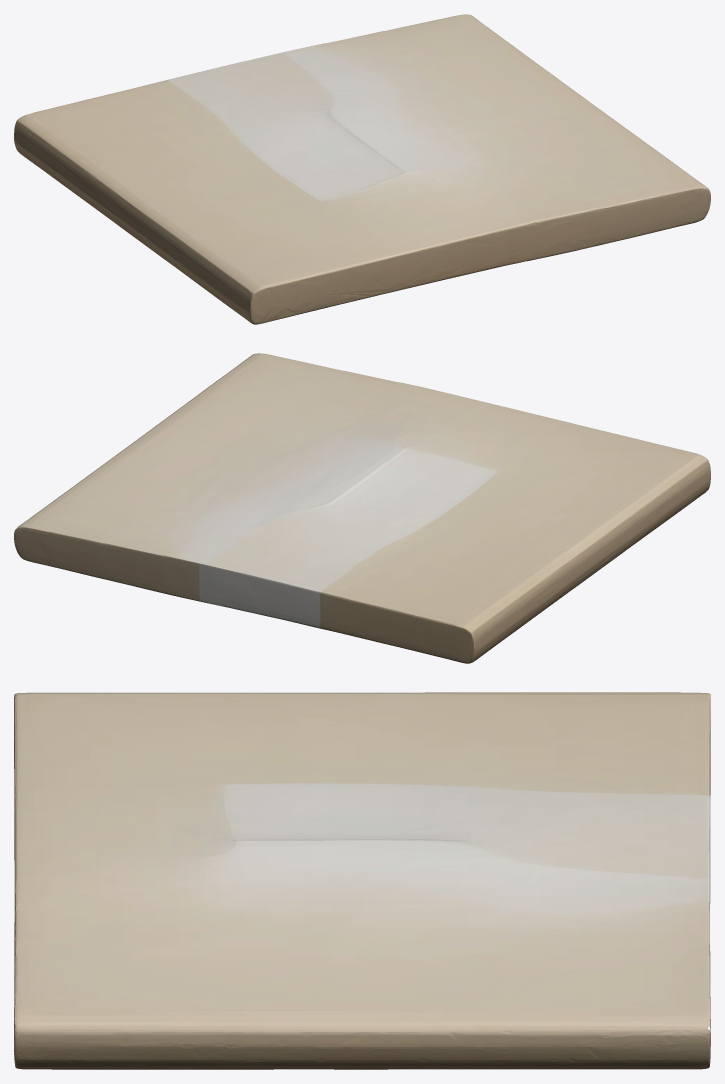
The picture shows the model from 3 angles, top to bottom: view 1: azimuth 30°, elevation 25°; view 2: azimuth 150°, elevation 25°; view 3: azimuth 270°, elevation 25°; orthographic projection. The views are drawn at different scales.
Visible parts, largest first — view 1: geometry_0; view 2: geometry_0; view 3: geometry_0.
Boxes of the visible parts, x1,y1,x2,y2 form: geometry_0: (14, 14, 710, 324); geometry_0: (14, 353, 710, 663); geometry_0: (14, 692, 710, 1069).
Bounding box in the file's own units: 0.9976 × 0.1016 × 0.8902.
1 material, 1 textured.
